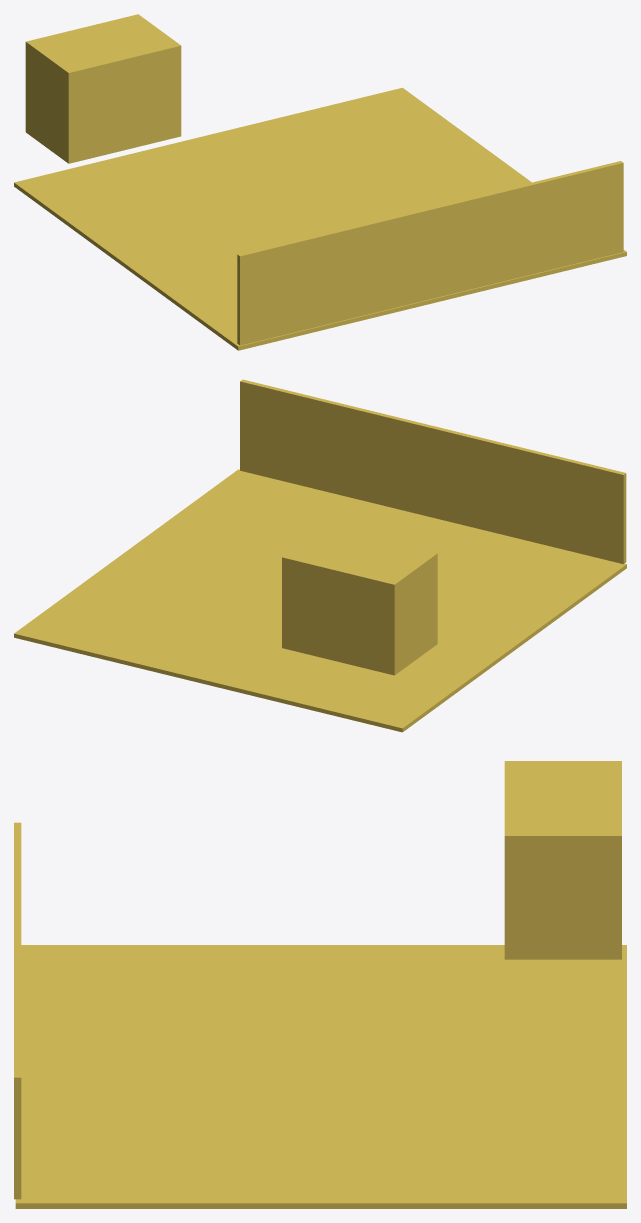
The model's file is TestSolM_PC_OC.DAE.
3 renders of one model, top to bottom at view 1: azimuth 30°, elevation 25°; view 2: azimuth 150°, elevation 25°; view 3: azimuth 270°, elevation 25°, orthographic. The views are drawn at different scales.
Visible parts, largest first — view 1: Box02_PIVOT; view 2: Box02_PIVOT; view 3: Box02_PIVOT.
Boxes of the visible parts, x1=… form: Box02_PIVOT: x1=14, y1=14, x2=626, y2=350; Box02_PIVOT: x1=14, y1=379, x2=626, y2=732; Box02_PIVOT: x1=14, y1=761, x2=626, y2=1208.
Size of the model in its own units: 100 by 100 by 35.38.
